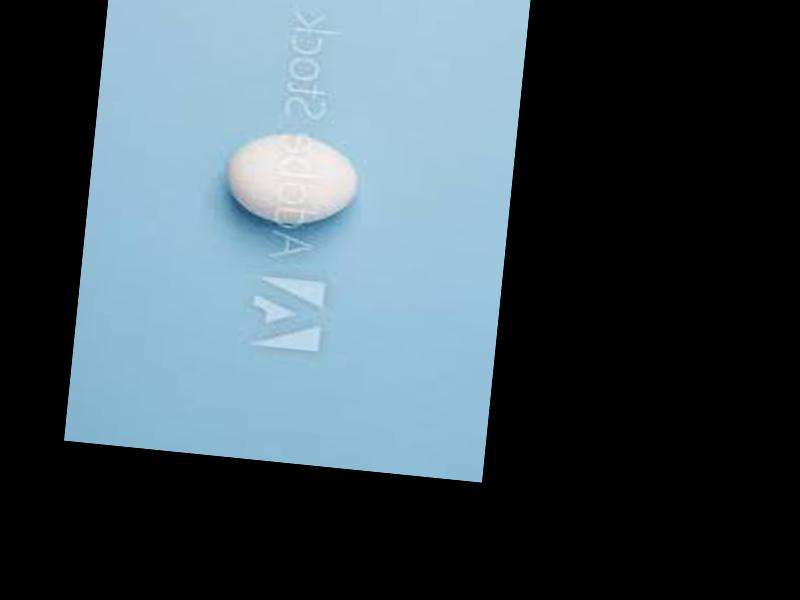Eggs: (224, 129, 358, 229)
